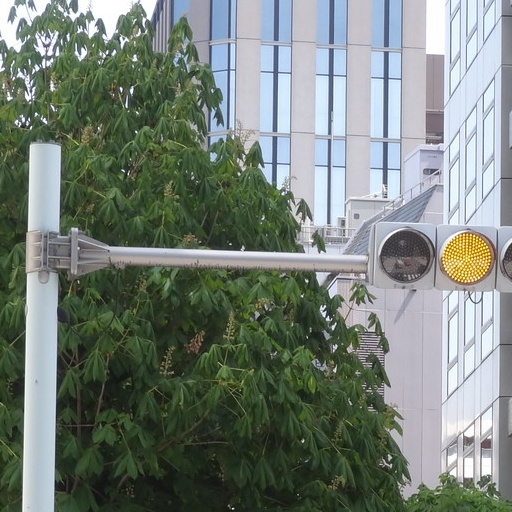Traffic_Signal_Yellow: (362, 224, 512, 291)
